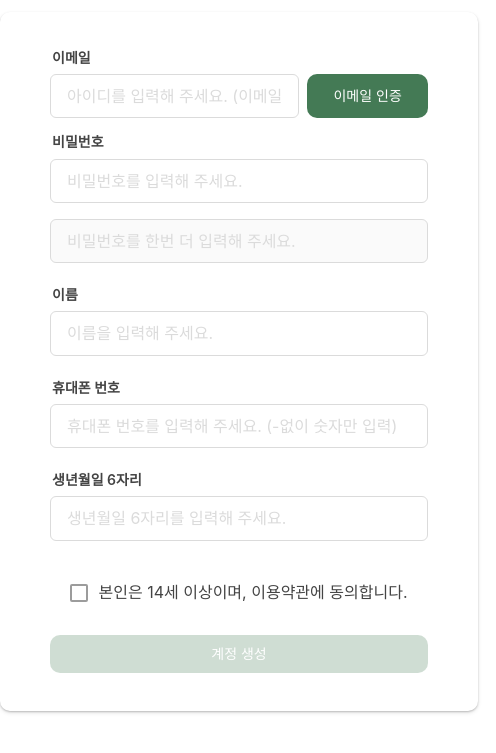
Scenario: JoinForm 컴포넌트 테스트 › 이메일 › 이메일을 입력하지 않고 이메일 인증 버튼을 클릭하면 화면에 에러 메시지가 보여야 한다.
The width and height of the screenshot is (496, 753).
Click the button "이메일 인증". click: (368, 96)
box: [307,74,428,118]
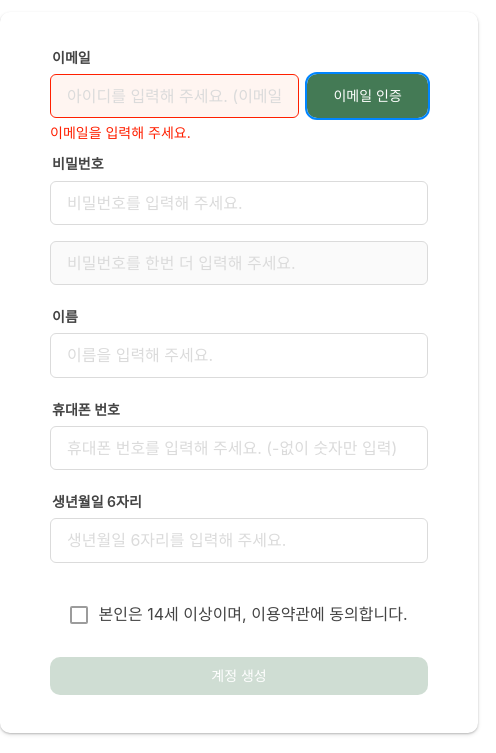
Now the text "이메일을 입력해 주세요." is shown, box [50,124,191,142]
